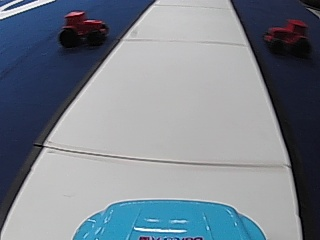tractor: (263, 17, 310, 59), (58, 8, 107, 48)
